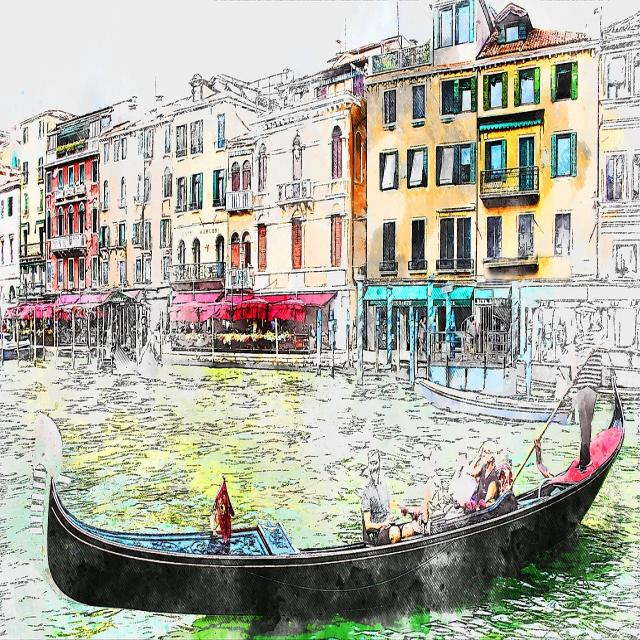boat: (27, 391, 630, 628)
